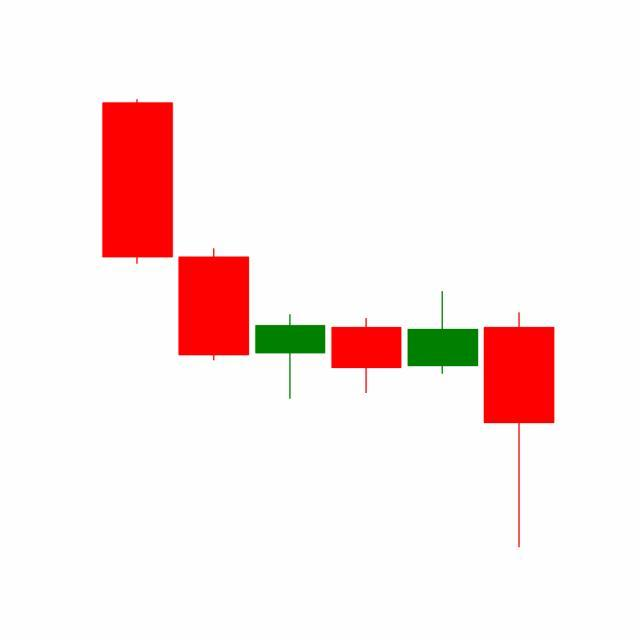Hikkake Pattern: (175, 244, 555, 548)
